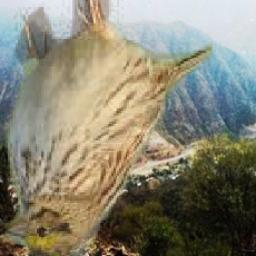Sparrow: (0, 0, 214, 256)
